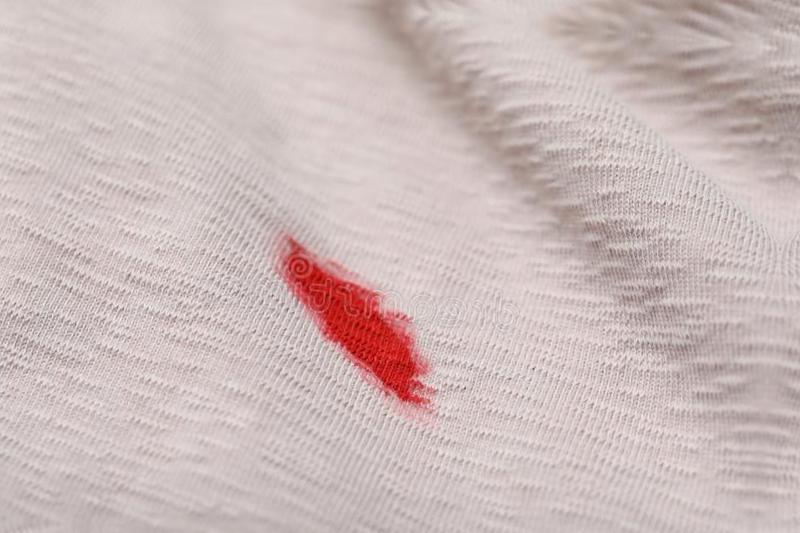stain: (271, 226, 448, 414)
